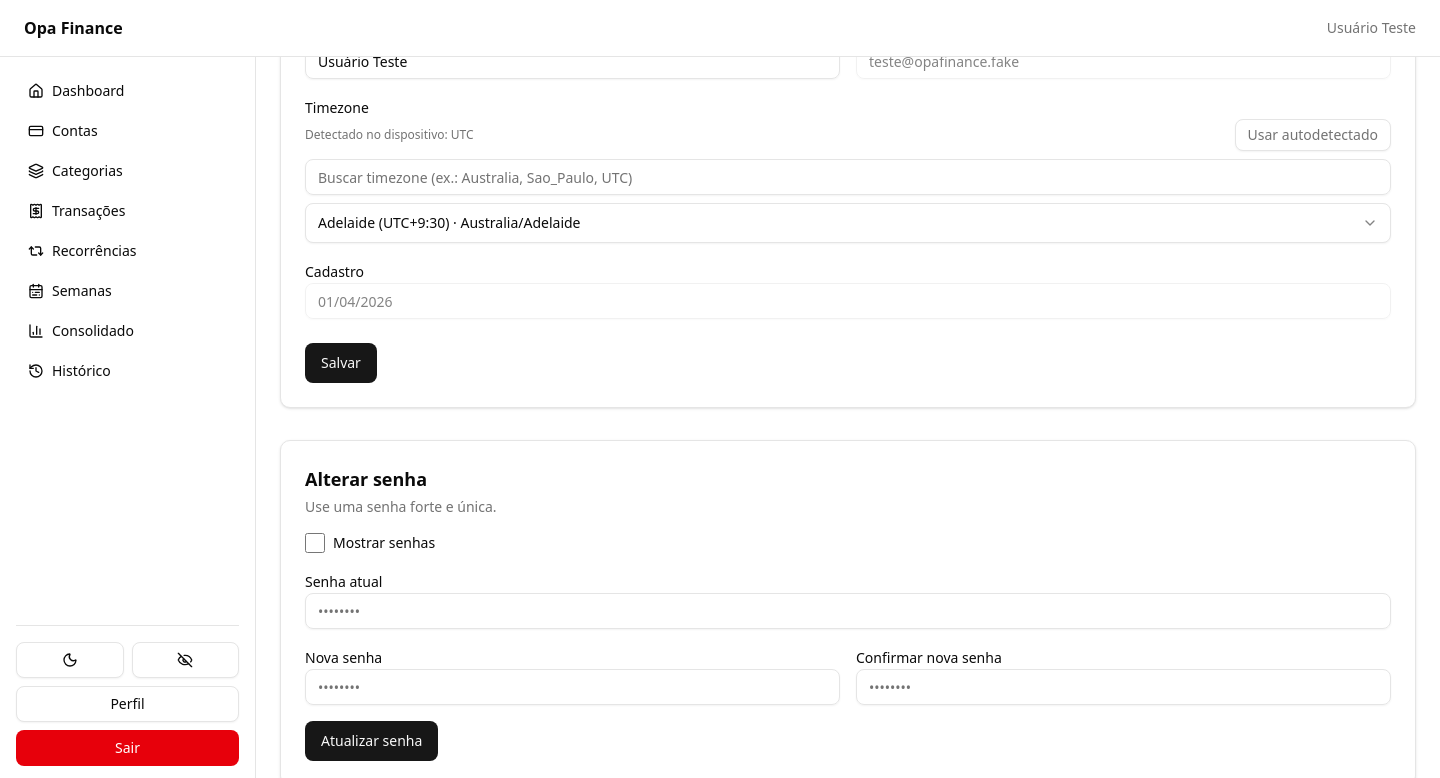
Test case: profile feature › deve alterar senha com sucesso
(page scrolled)
Type "SenhaAtual@123" into the password field labelled "Senha atual". click: [848, 611]
box: [305,593,1391,629]
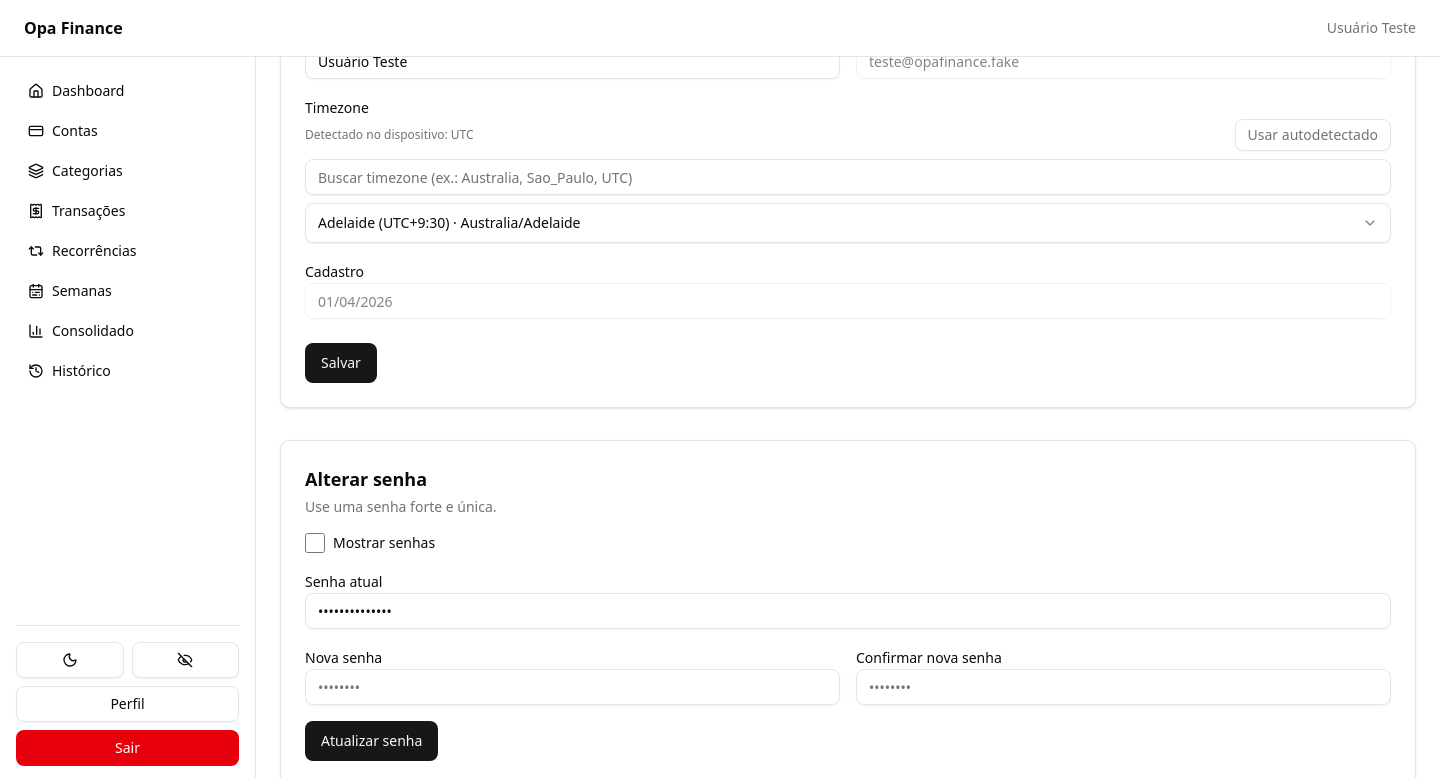
Type "NovaSenha@123" into the password field labelled "Nova senha". click: [572, 687]
box: [305,669,840,705]
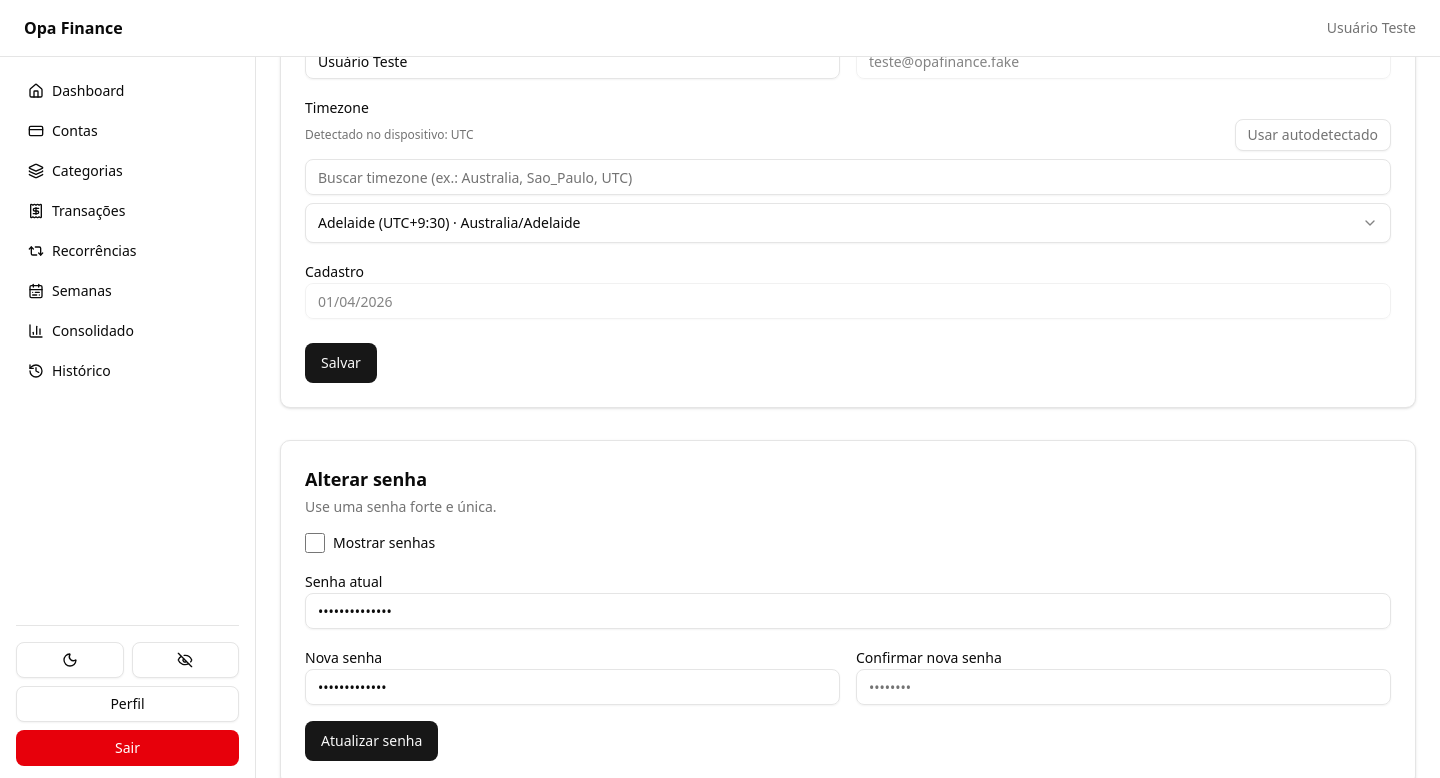
Type "NovaSenha@123" into the password field labelled "Confirmar nova senha". click: [1124, 687]
box: [856,669,1391,705]
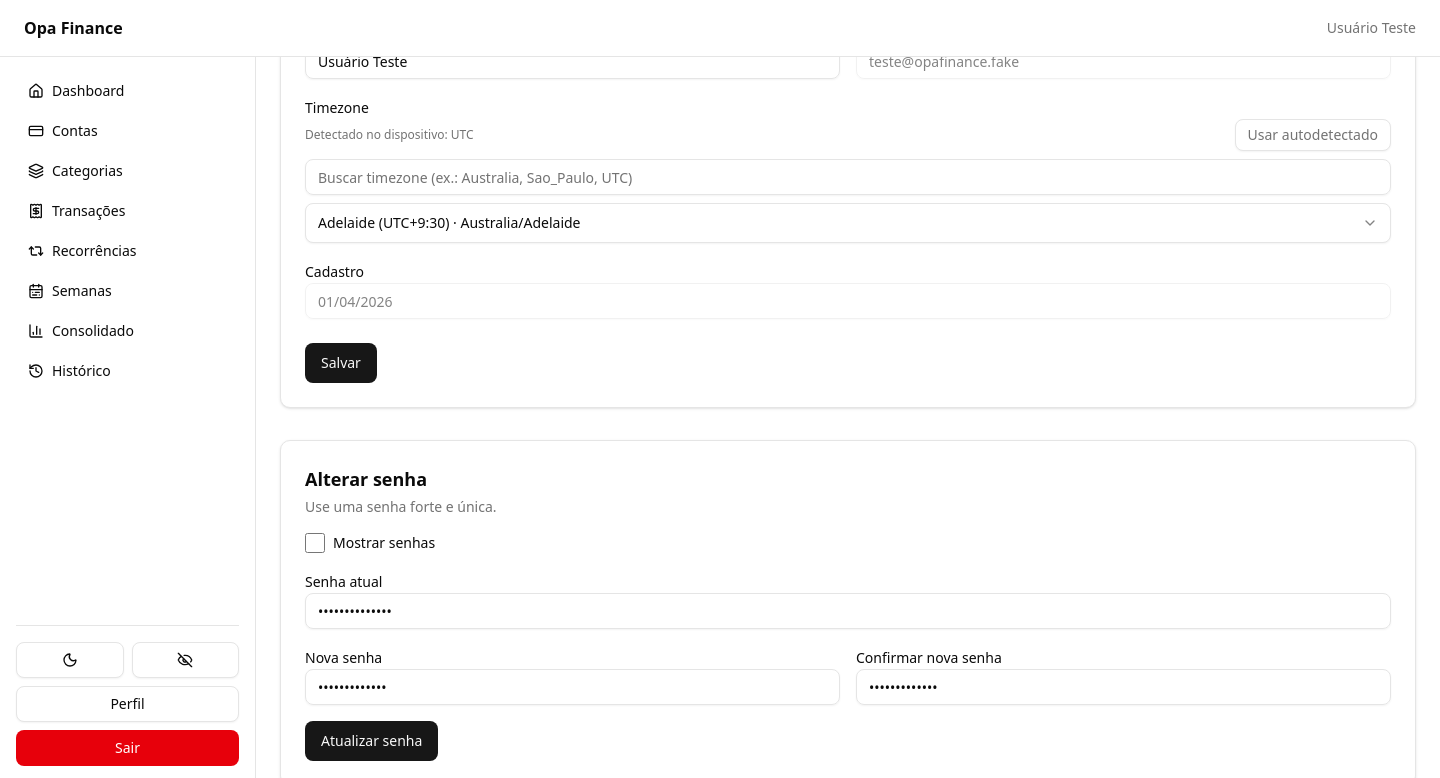
Click the button "Atualizar senha". click: [372, 741]
box: [305,721,438,761]
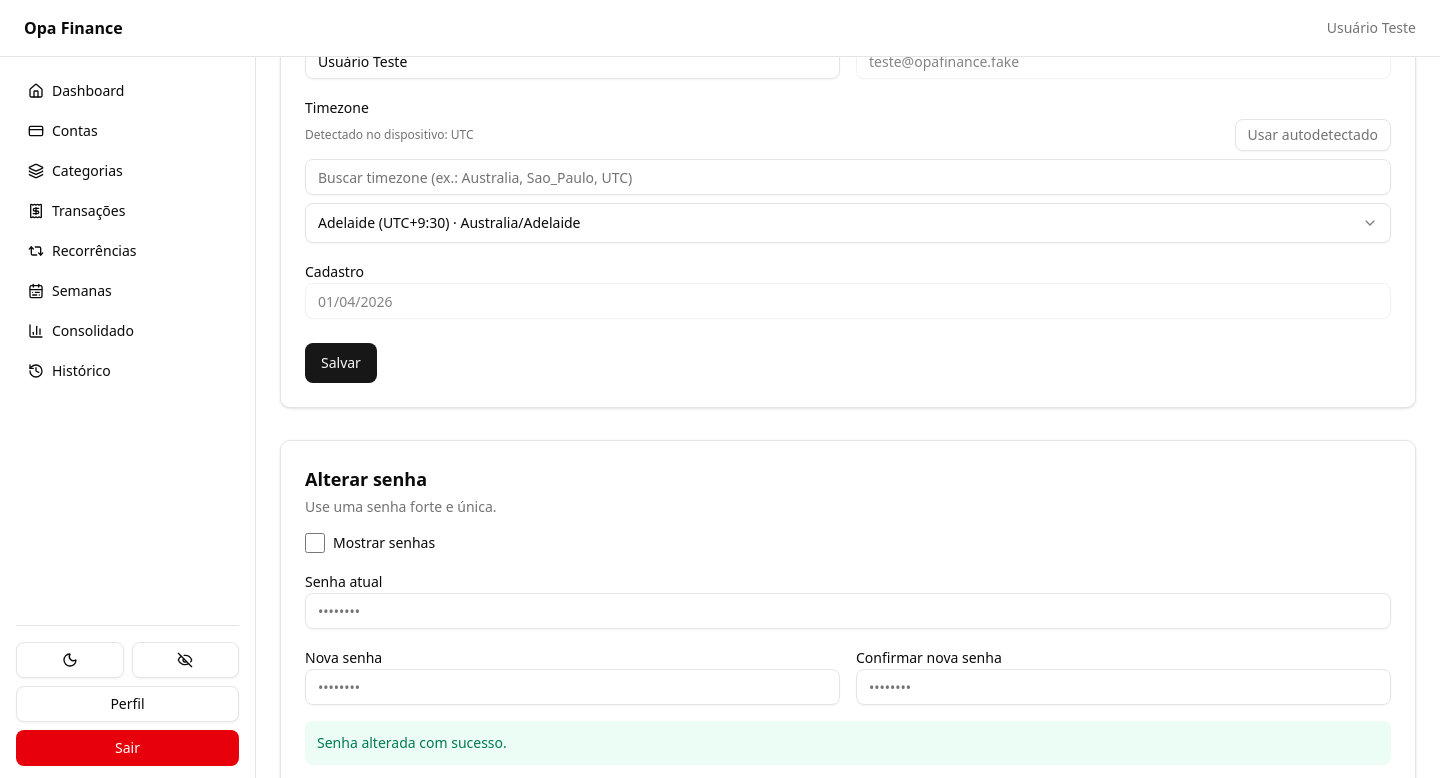
Now the text "Senha alterada com sucesso." is shown, box [305,721,1391,765]
